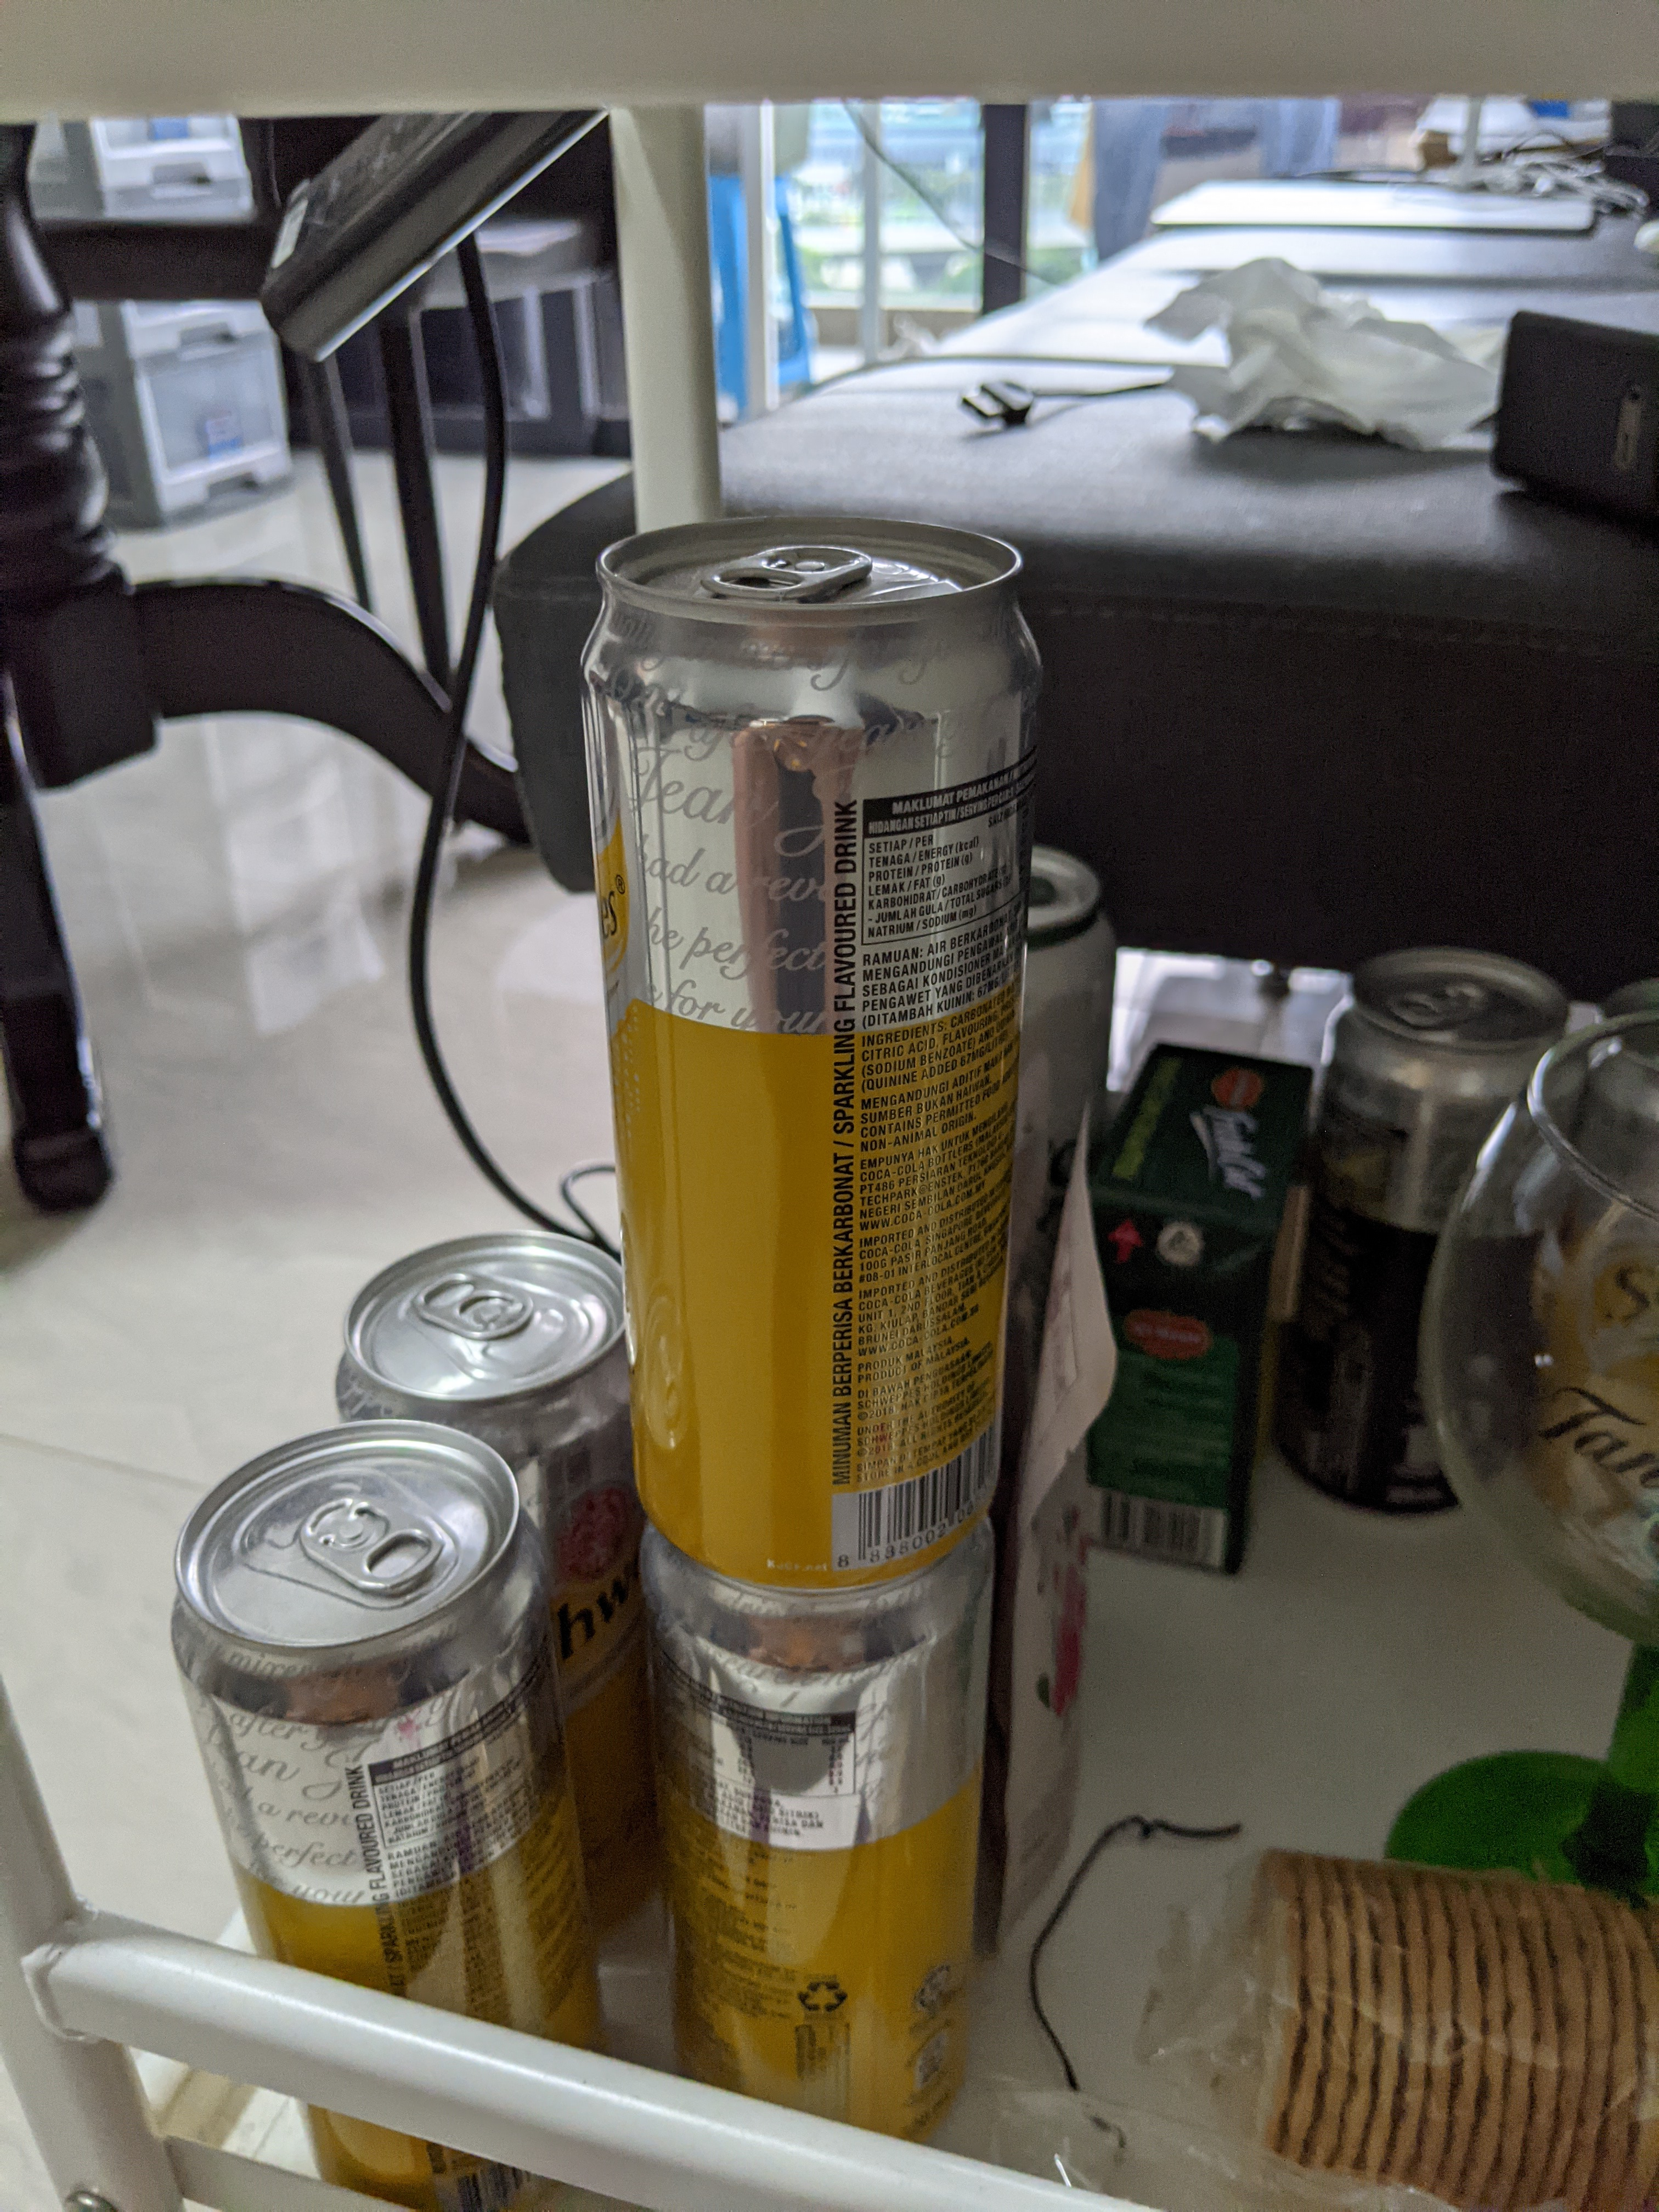schweppes drink can tonic water: (568, 495, 1084, 1618)
